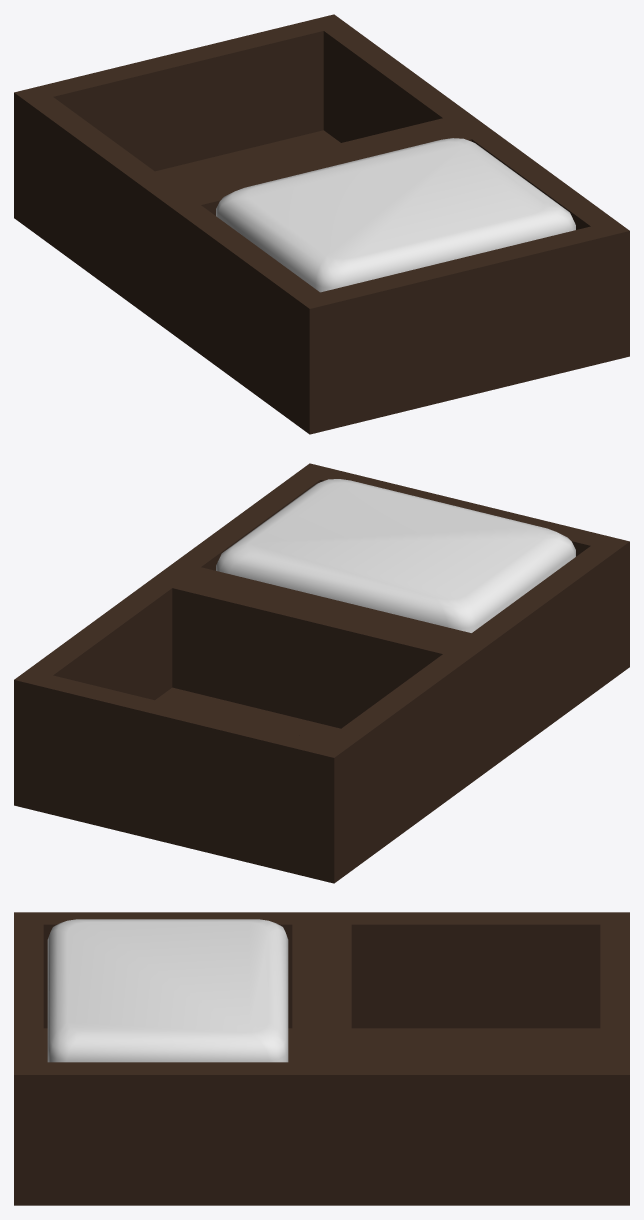
Rendered from AnarchyControls.fbx.
The picture shows the model from 3 angles, top to bottom: view 1: azimuth 30°, elevation 25°; view 2: azimuth 150°, elevation 25°; view 3: azimuth 270°, elevation 25°; orthographic projection. The views are drawn at different scales.
Parts seen in each view (by area): view 1: AnarchyControls, EndTurnButton; view 2: AnarchyControls, EndTurnButton; view 3: AnarchyControls, EndTurnButton.
Boxes of the visible parts, x1,y1,x2,y2 form: AnarchyControls: [14, 14, 629, 434]; EndTurnButton: [216, 138, 575, 292]; AnarchyControls: [14, 463, 629, 883]; EndTurnButton: [216, 479, 575, 632]; AnarchyControls: [14, 912, 629, 1205]; EndTurnButton: [47, 919, 288, 1062].
Size of the model in its own units: 200 by 84.25 by 320.
